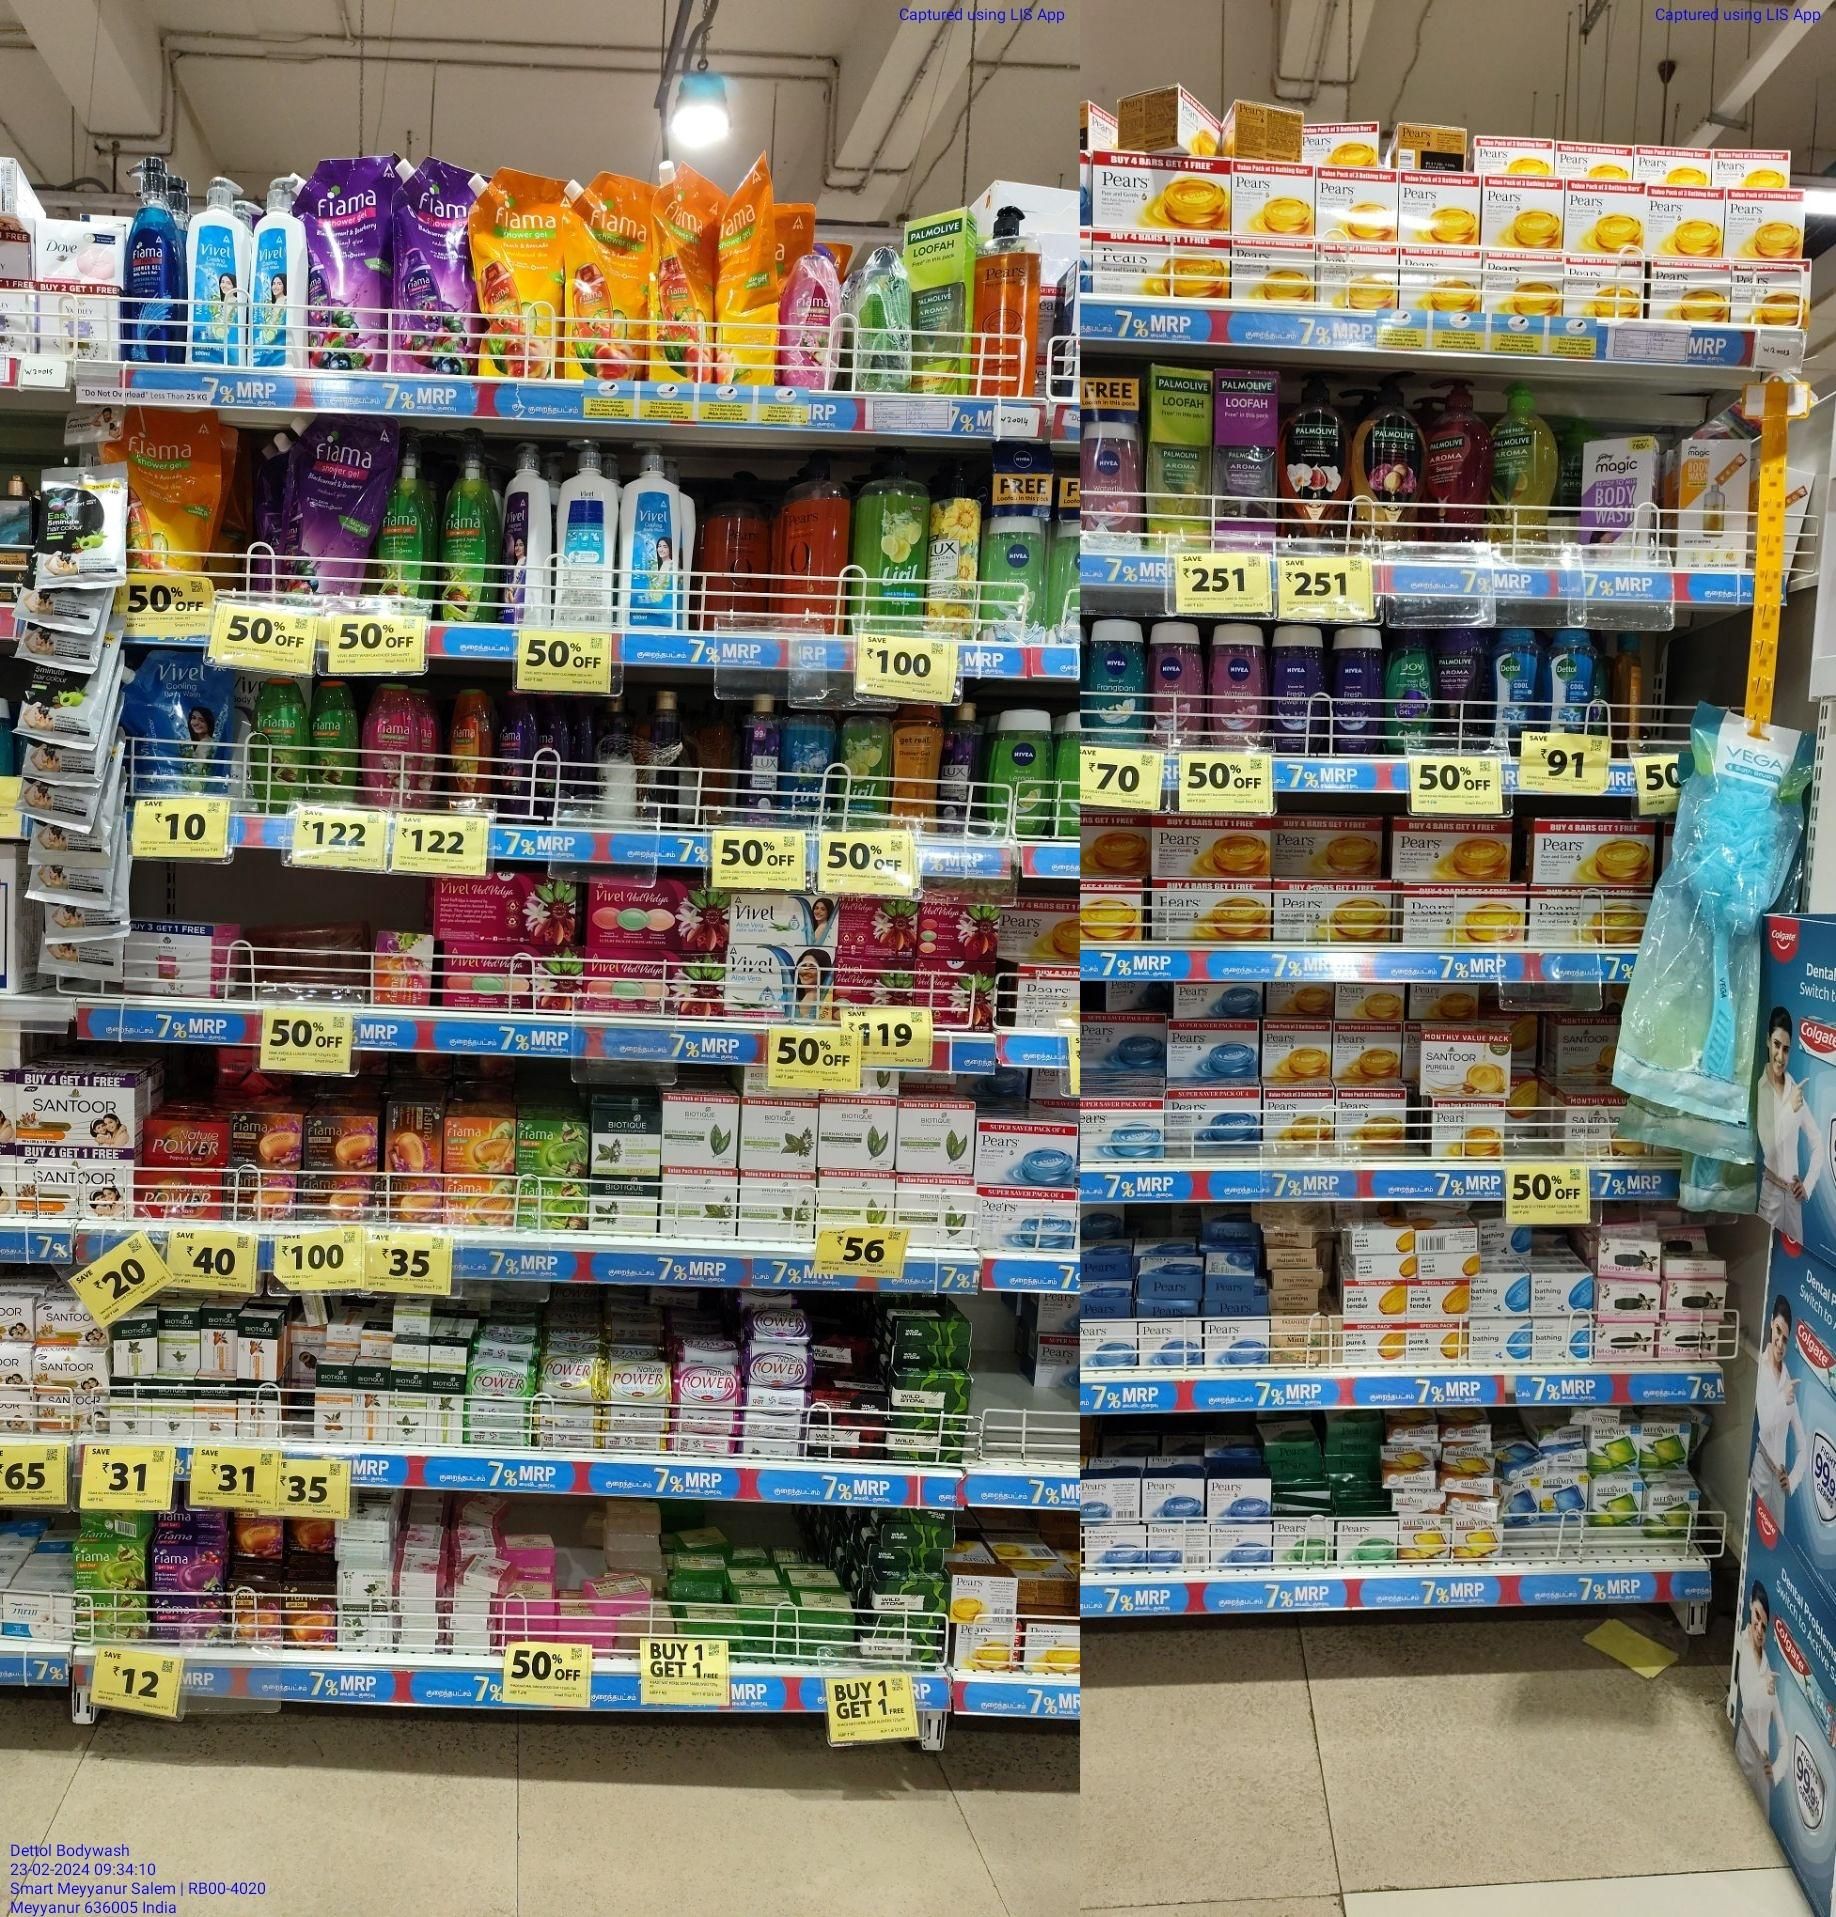Dettol_Bodywash_Cool: (1489, 633, 1542, 736), (1547, 625, 1595, 733)
Fiama_Shower_Gel_Patchouli_and_Macadamia_250ML: (789, 258, 847, 390), (363, 680, 418, 806)
Get_Real_Shower_Gel_Moisturising_Glycerin_300ML: (895, 705, 936, 830)
Joy_Shower_Gel_Mint_and_Eucalyptus_250ML: (1384, 633, 1430, 750)
Nivea_Shower_Gel_Frangipani_and_Oil_250ML: (1083, 614, 1140, 748)
Nivea_Shower_Gel_Fresh_Powerfruit_250ML: (1326, 628, 1383, 753), (1271, 628, 1326, 755)
Nivea_Shower_Gel_Lemon_and_Oil_250ML: (253, 680, 311, 806), (980, 513, 1042, 628), (992, 710, 1044, 832), (311, 680, 352, 799)
Nivea_Shower_Gel_Waterlily_and_Oil_250ML: (1208, 623, 1261, 743), (1150, 625, 1199, 743)
